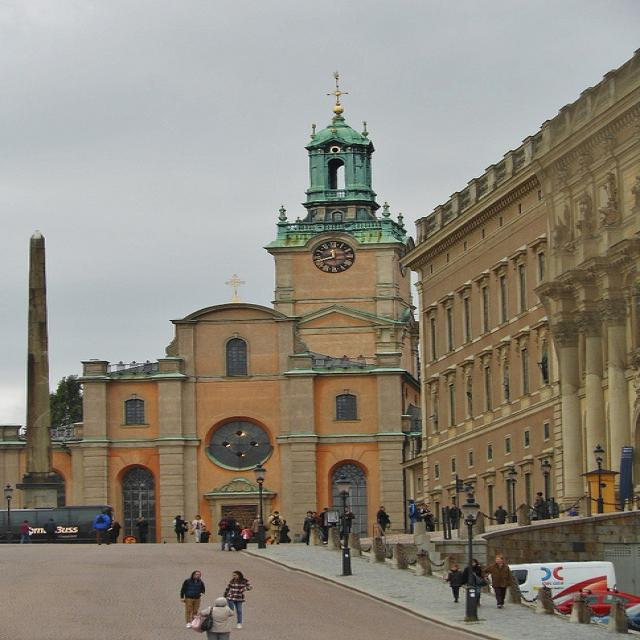Vehicle: (505, 558, 616, 602), (555, 590, 640, 616)
